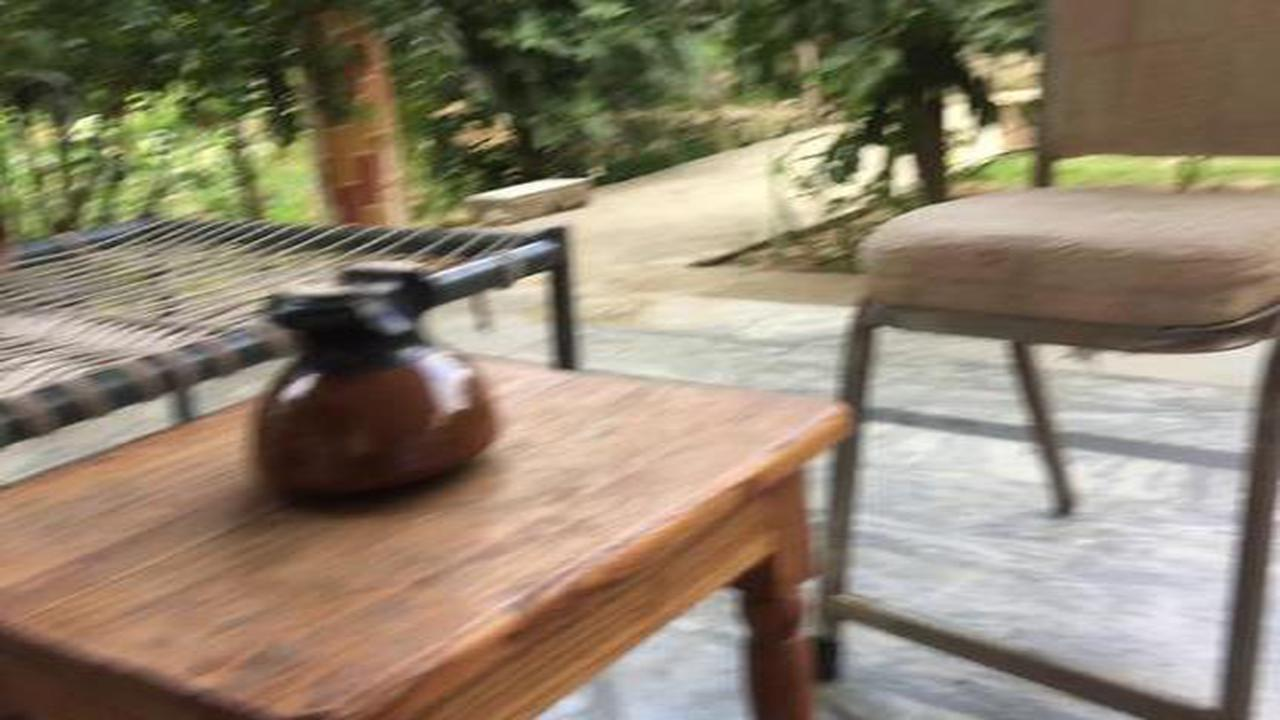insulator_pin: (225, 251, 521, 516)
